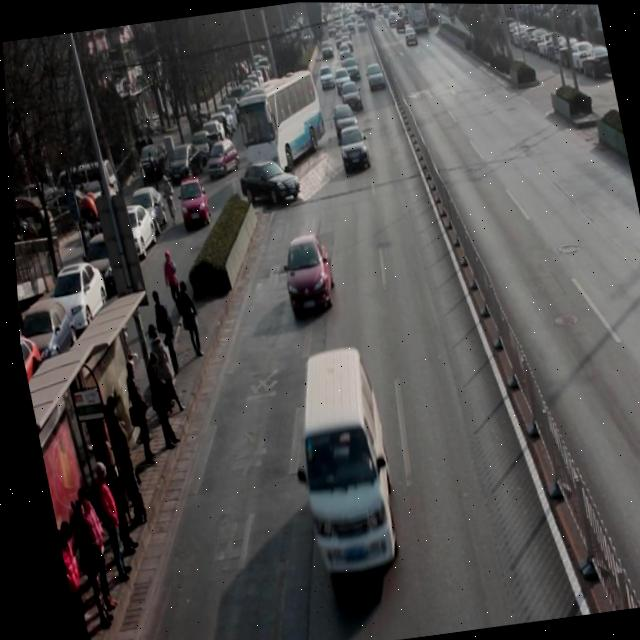car: (275, 231, 338, 318), (234, 154, 302, 211), (335, 124, 372, 174), (330, 103, 362, 146), (338, 80, 365, 114)
truck: (275, 347, 404, 581)
van: (229, 68, 332, 176)
